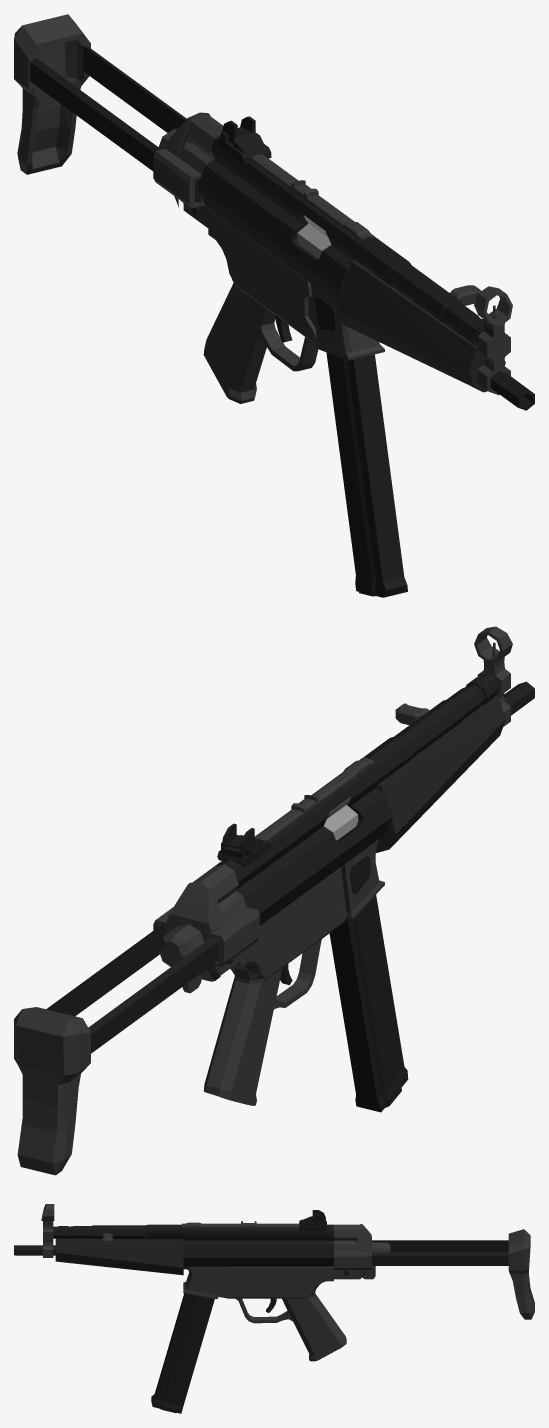
3 renders of one model, top to bottom at view 1: azimuth 30°, elevation 25°; view 2: azimuth 150°, elevation 25°; view 3: azimuth 270°, elevation 25°, orthographic. The views are drawn at different scales.
Parts seen in each view (by area): view 1: SM_MP5_001; view 2: SM_MP5_001; view 3: SM_MP5_001.
Boxes of the visible parts, x1,y1,x2,y2 form: SM_MP5_001: (14,14,534,597); SM_MP5_001: (14,626,534,1175); SM_MP5_001: (14,1204,534,1413).
Bounding box in the file's own units: 0.062 × 0.3054 × 0.6986.
1 material, 1 textured.
